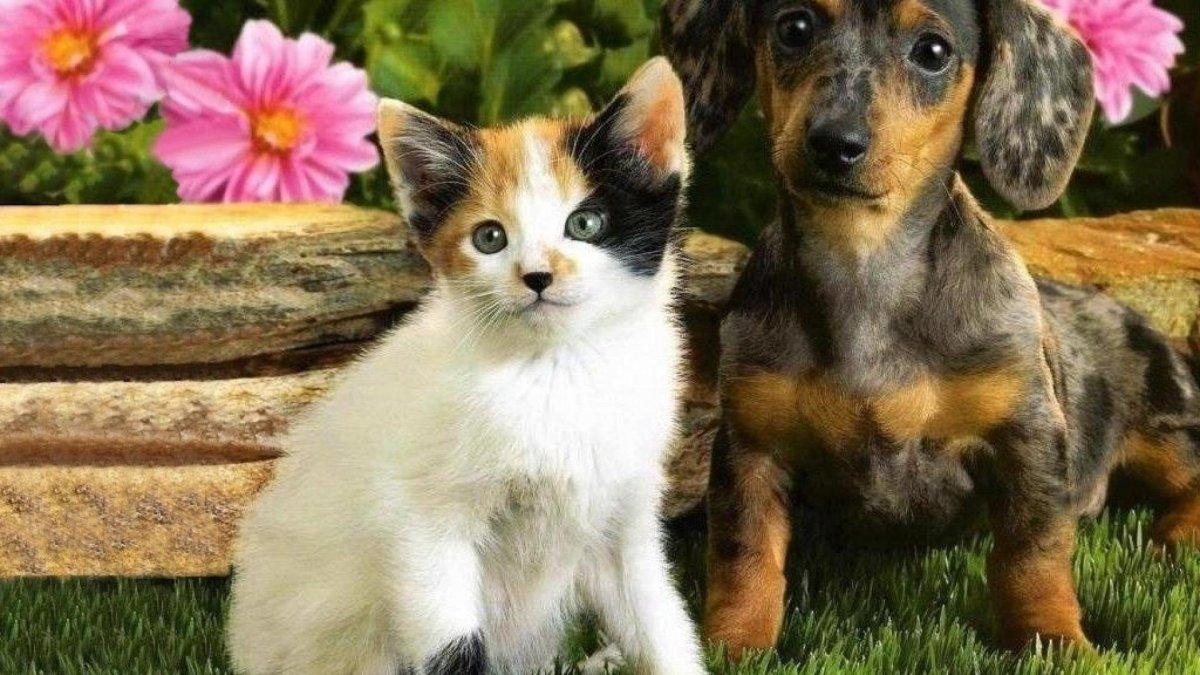animals: (655, 0, 1200, 675), (232, 53, 732, 675)
